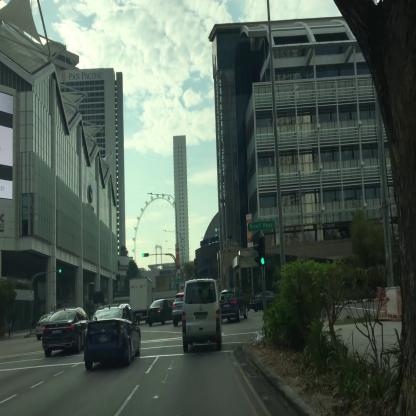green_traffic_light: (258, 238, 265, 264), (142, 253, 149, 257), (58, 269, 65, 272)
